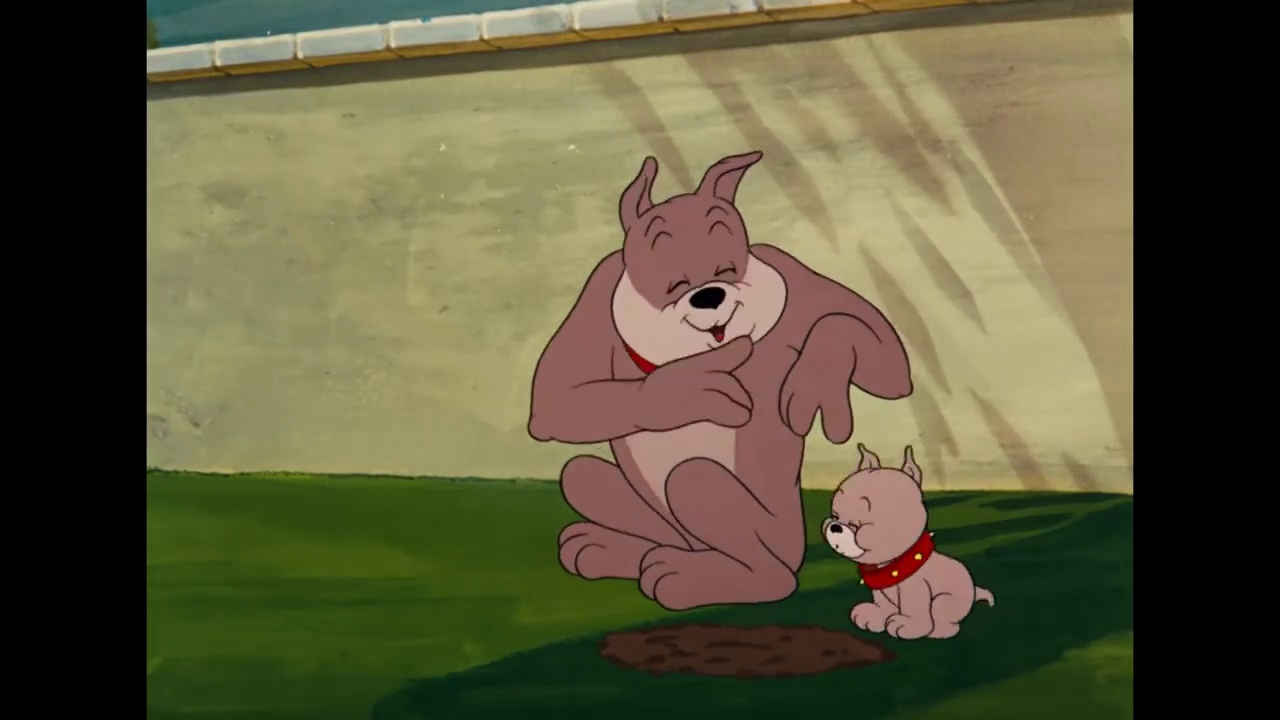spike: (604, 148, 792, 370)
